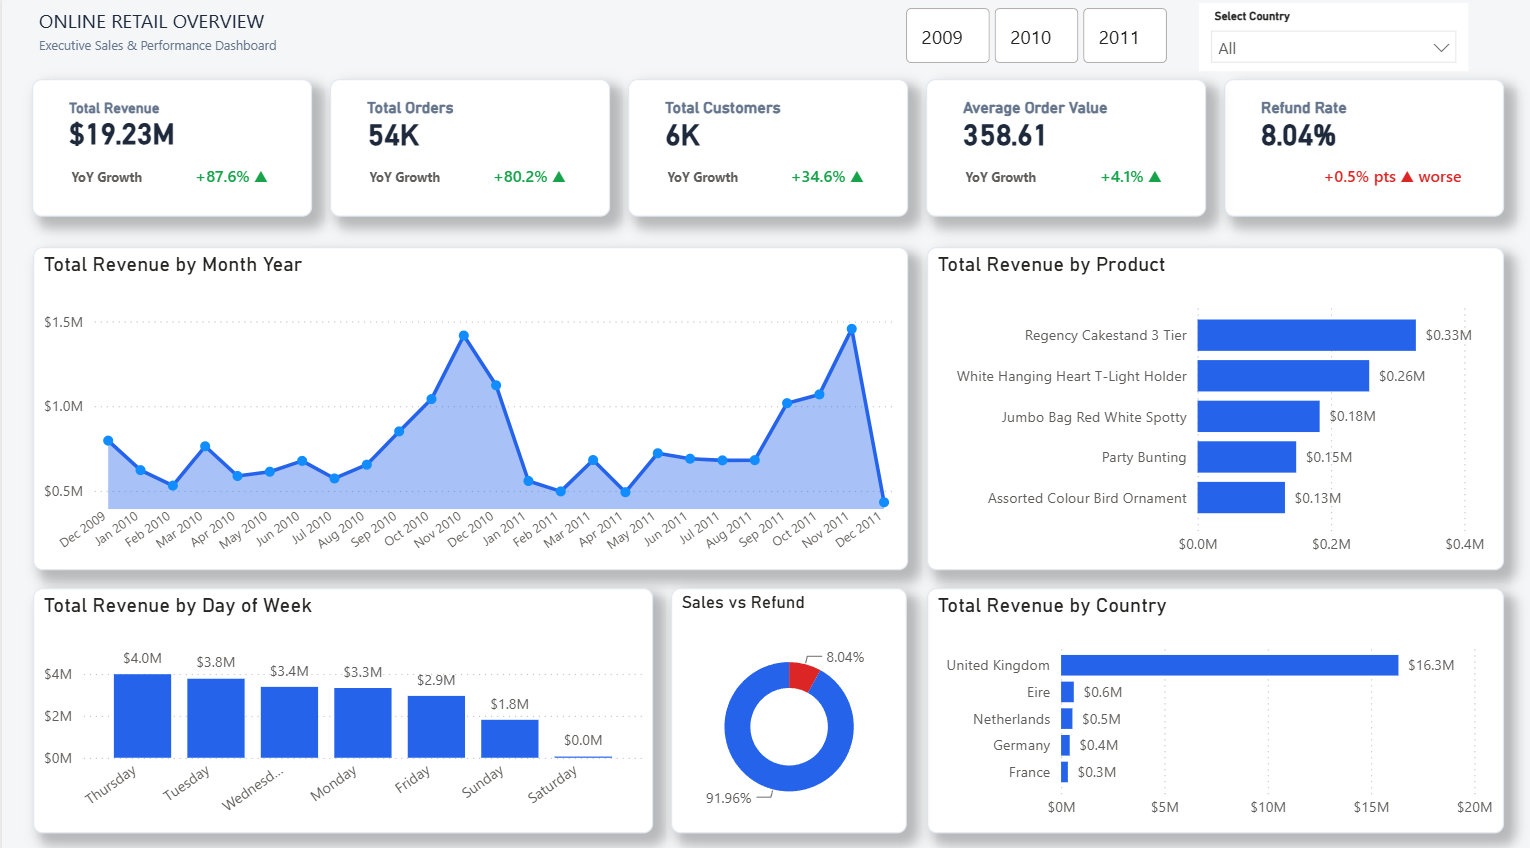

The dashboard page shown, as its layout file describes it:
{"tool":"powerbi","page":{"name":"Page 1","canvas":[1280,720],"ordinal":0},"visuals":[{"type":"cardVisual","fields":{"Data":["Key_Measures.Total Revenue"]},"box":[25.3,70,234,115],"z":0},{"type":"lineChart","fields":{"Category":["dim_date.Month Year"],"Y":["Key_Measures.Total Revenue"]},"box":[25.6,210.1,730.7,269.9],"z":1000},{"type":"clusteredBarChart","title":"Total Revenue by Product","fields":{"Category":["dim_product.Description"],"Y":["Key_Measures.Total Revenue"]},"box":[772.3,210.1,482.1,269.9],"z":2000},{"type":"clusteredBarChart","fields":{"Category":["fact_sales.Country"],"Y":["Key_Measures.Total Revenue"]},"box":[772.3,494.9,482.1,204.8],"z":3000},{"type":"clusteredColumnChart","fields":{"Category":["dim_date.Day of Week"],"Y":["Key_Measures.Total Revenue"]},"box":[25.6,494.9,518.4,204.8],"z":4000},{"type":"donutChart","title":"Sales vs Refund","fields":{"Y":["Key_Measures.Total Return Value","Key_Measures.Net Sales"]},"box":[558.9,494.9,197.3,204.8],"z":5000},{"type":"cardVisual","fields":{"Data":["Key_Measures.Total Orders"]},"box":[274,70,234,115],"z":6000},{"type":"cardVisual","fields":{"Data":["Key_Measures.Total Customers"]},"box":[523,70,234,115],"z":7000},{"type":"cardVisual","fields":{"Data":["Key_Measures.Refund Rate"]},"box":[1021,70,234,115],"z":8000},{"type":"cardVisual","fields":{"Data":["Key_Measures.Average Order Value"]},"box":[772,70,234,115],"z":9000},{"type":"textbox","box":[25.6,5.8,448.8,57],"z":10000},{"type":"advancedSlicerVisual","fields":{"Values":["dim_date.Year"]},"box":[749.9,6.1,230,57],"z":11000},{"type":"slicer","fields":{"Values":["fact_sales.Country"]},"box":[999.9,6.3,225.3,56.5],"z":12000}]}

Visuals, with their boxes in screenshot pixels (x1, y1, x2, y2), scaled from the page's 1280x720 canvas onto the 1530x848 screenshot:
cardVisual - Key_Measures.Total Revenue: locate(30, 82, 310, 218)
lineChart - dim_date.Month Year x Key_Measures.Total Revenue: locate(31, 247, 904, 565)
"Total Revenue by Product" clusteredBarChart: locate(923, 247, 1499, 565)
clusteredBarChart - fact_sales.Country x Key_Measures.Total Revenue: locate(923, 583, 1499, 824)
clusteredColumnChart - dim_date.Day of Week x Key_Measures.Total Revenue: locate(31, 583, 650, 824)
"Sales vs Refund" donutChart: locate(668, 583, 904, 824)
cardVisual - Key_Measures.Total Orders: locate(328, 82, 607, 218)
cardVisual - Key_Measures.Total Customers: locate(625, 82, 905, 218)
cardVisual - Key_Measures.Refund Rate: locate(1220, 82, 1500, 218)
cardVisual - Key_Measures.Average Order Value: locate(923, 82, 1202, 218)
textbox: locate(31, 7, 567, 74)
advancedSlicerVisual - dim_date.Year: locate(896, 7, 1171, 74)
slicer - fact_sales.Country: locate(1195, 7, 1464, 74)
